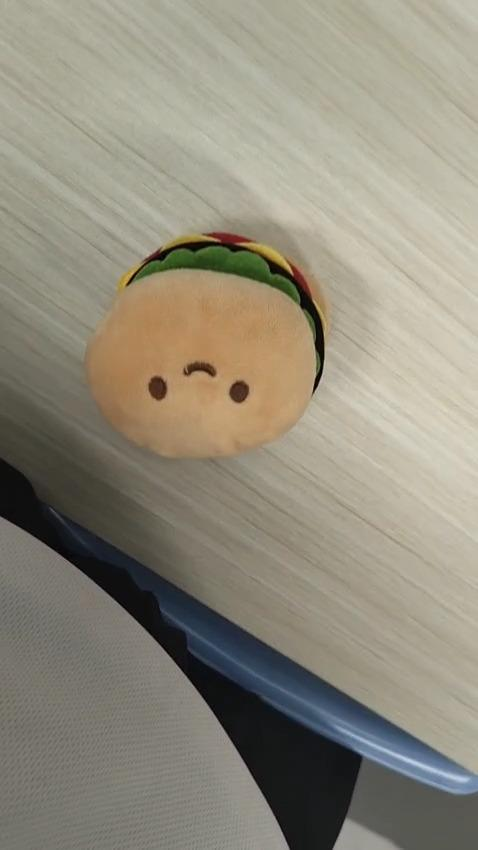hamburger: (89, 225, 332, 464)
